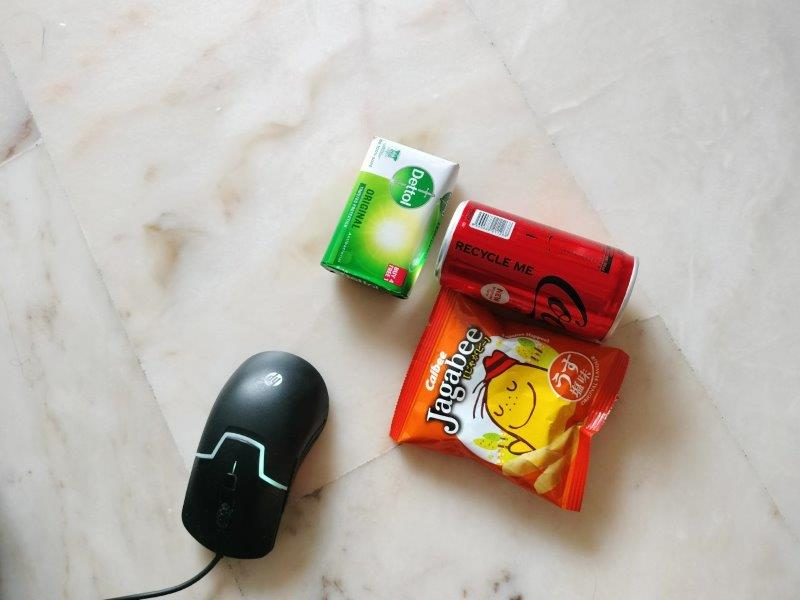Coke: (436, 200, 638, 342)
Dettol: (323, 139, 457, 299)
Jagabee: (392, 289, 625, 509)
